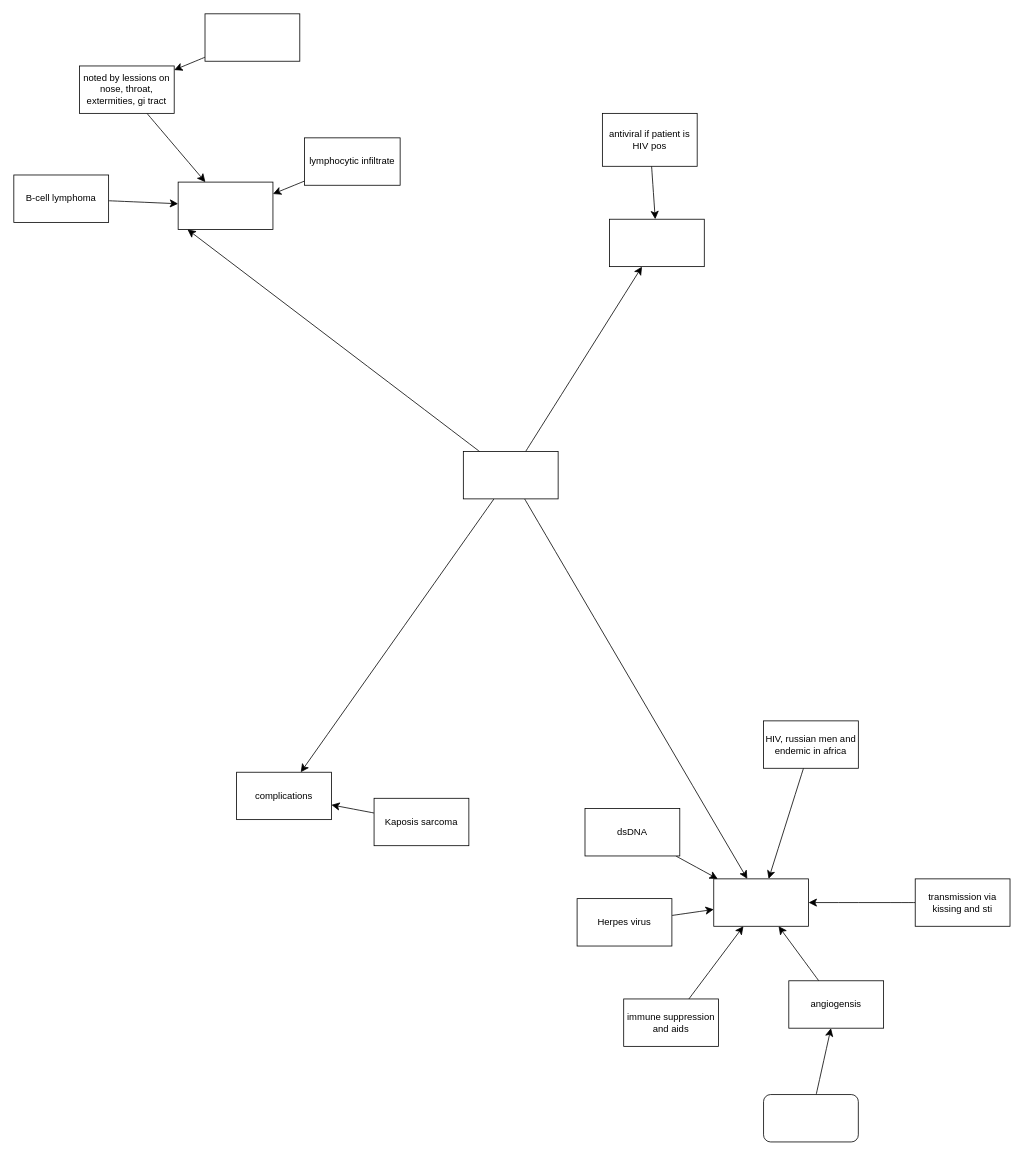
This 1024x1156 diagram has some shape labels left out. The centre of each missing label's shape, as x and y in pixels:
"causesd by disreg of VegF" goes at (x=810, y=1118).
"features" goes at (x=761, y=902).
"HHV8" goes at (x=510, y=475).
"most common in hard palete" goes at (x=252, y=37).
"symptoms" goes at (x=225, y=205).
"treatment" goes at (x=656, y=242).
